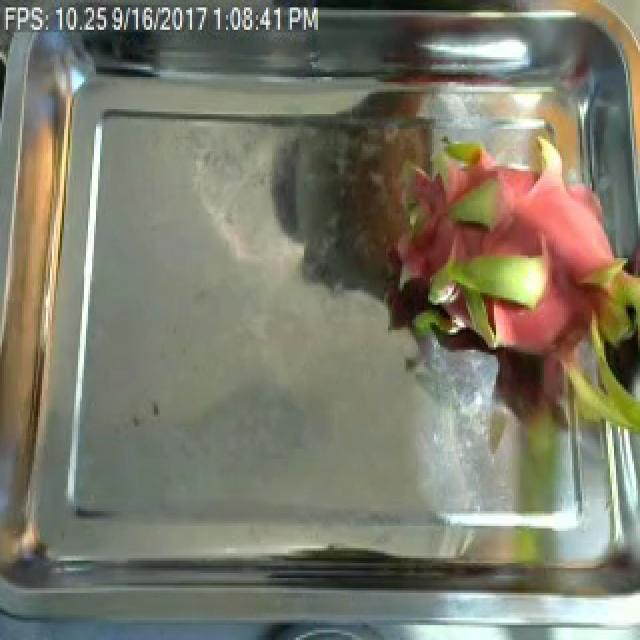fruit: (358, 102, 640, 449)
